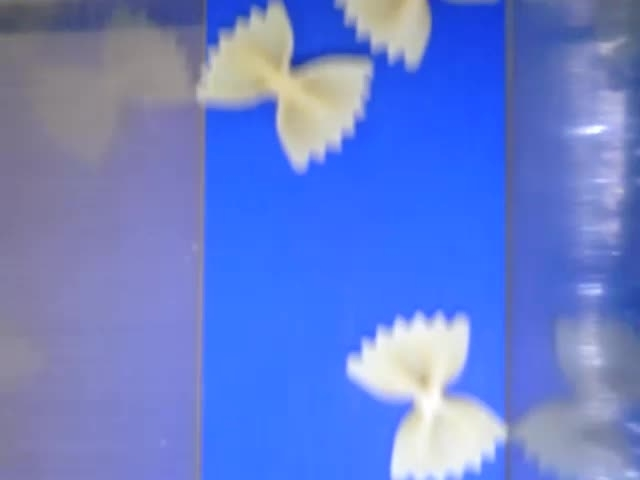farfalle: (194, 1, 371, 173), (344, 311, 511, 480), (333, 1, 435, 73)
